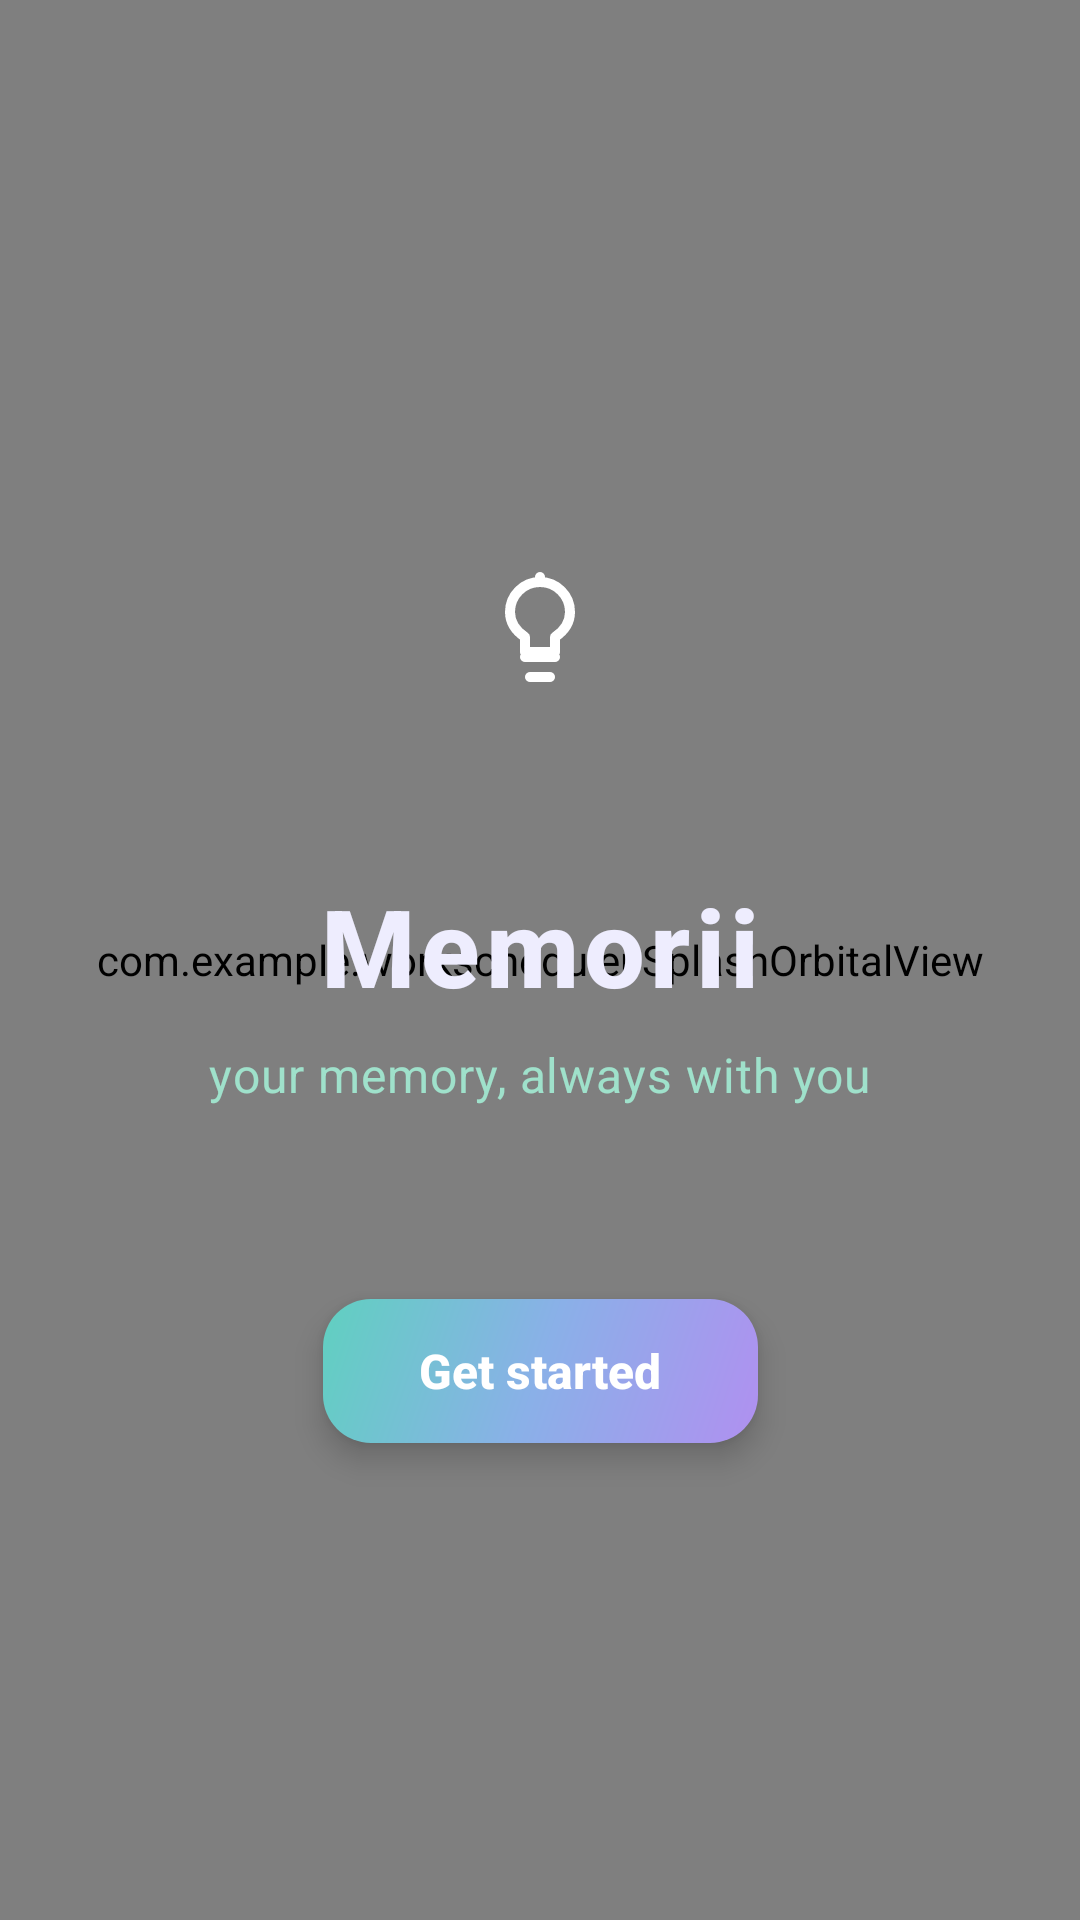

Named icons in this screenshot (1080 × 1920) and their centers, point (x, y):
lightbulb glow: point (540, 627)
